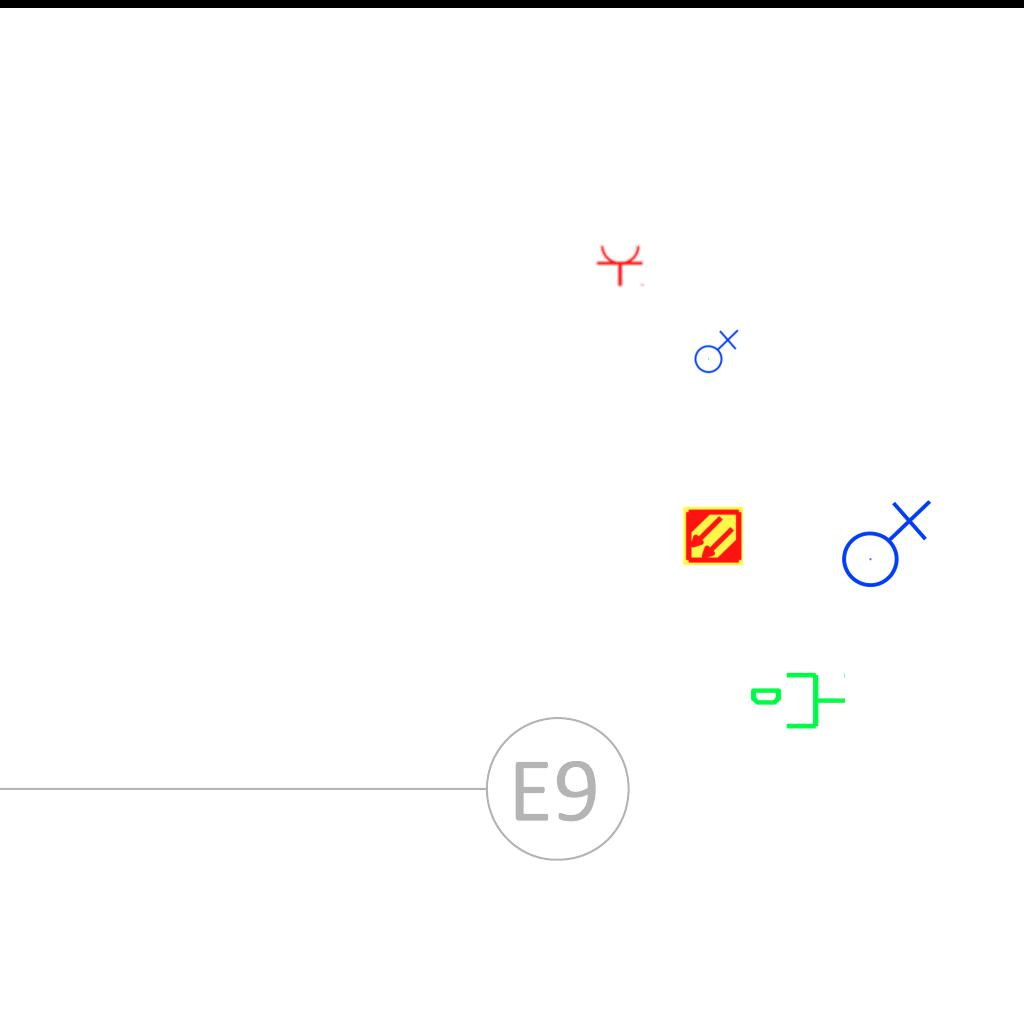ASR_Ansaugrauchmelder: (682, 505, 744, 567)
Datenanschluss_einfach: (748, 668, 848, 737)
Elektroanschluss_allgemein_230V_Geraeteanschlussdose_230V: (833, 495, 932, 589), (690, 327, 739, 374)
Schukosteckdose_einfach: (596, 244, 646, 287)
